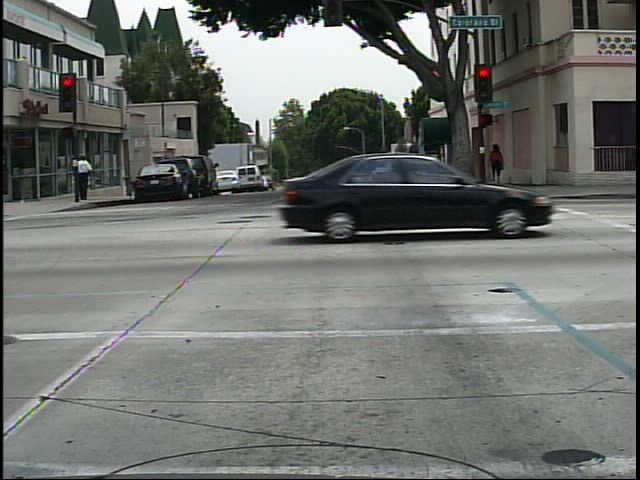person: (78, 147, 100, 204), (487, 138, 507, 186)
